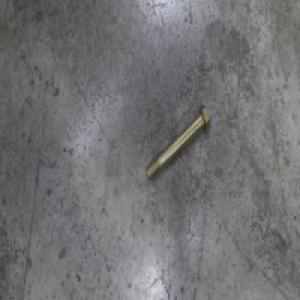Bolt: (145, 102, 210, 181)
